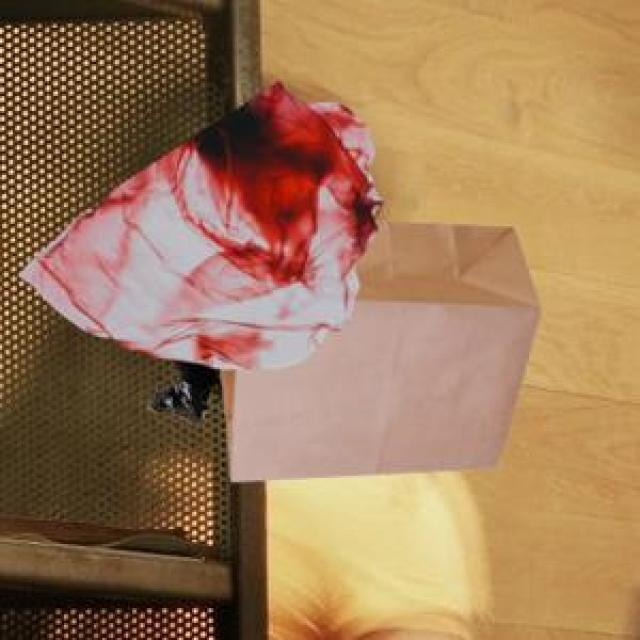miscellaneous trash: (143, 354, 220, 422)
paper: (216, 218, 538, 478)
